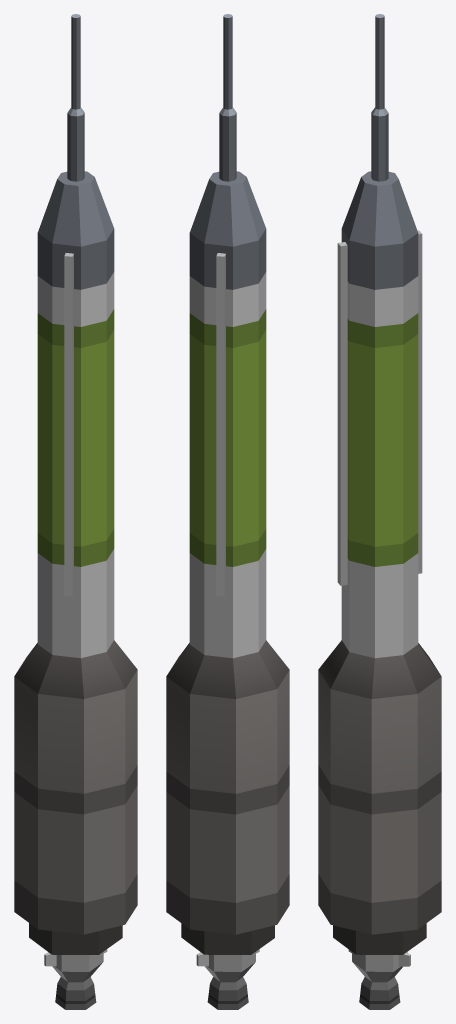
File: SM_Veh_Rocket_13.fbx
3 renders of one model, left to right at view 1: azimuth 30°, elevation 25°; view 2: azimuth 210°, elevation 25°; view 3: azimuth 330°, elevation 25°, orthographic.
Parts seen in each view (by area): view 1: SM_Veh_Rocket_13; view 2: SM_Veh_Rocket_13; view 3: SM_Veh_Rocket_13.
Part boxes in pixels (<box>): SM_Veh_Rocket_13: <box>14,14,137,1009</box>; SM_Veh_Rocket_13: <box>166,14,289,1009</box>; SM_Veh_Rocket_13: <box>318,14,441,1009</box>.
Size of the model in its own units: 1.62 by 15.35 by 1.62.
